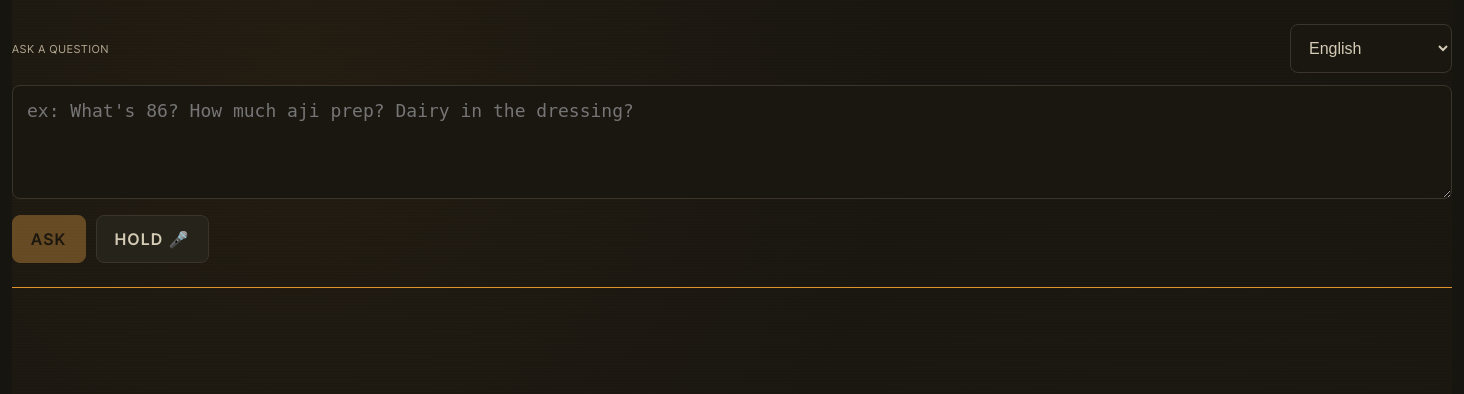
Test: clears the mic warning once the cook switches back to typing
Step 1. Press the mouse on the button with aria-label "start voice input" → (152, 239), box [96, 215, 209, 263]
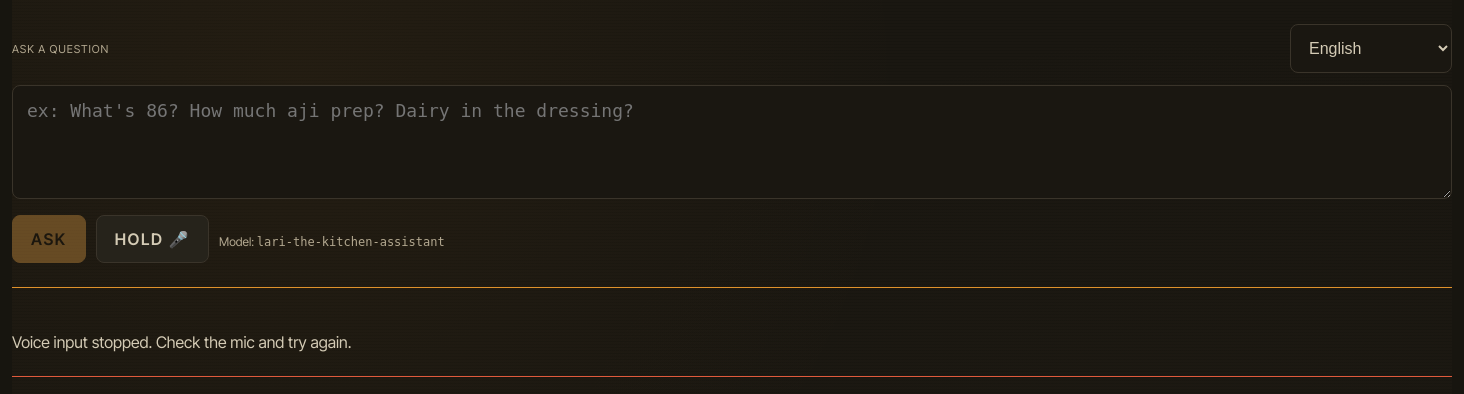
Expected: the message reads "Voice input stopped. Check the mic and try again.", [12, 332, 351, 352]
Step 2. Type "Need a typed follow-up" into the text box labelled "Ask a question" → (732, 142), box [12, 85, 1452, 199]
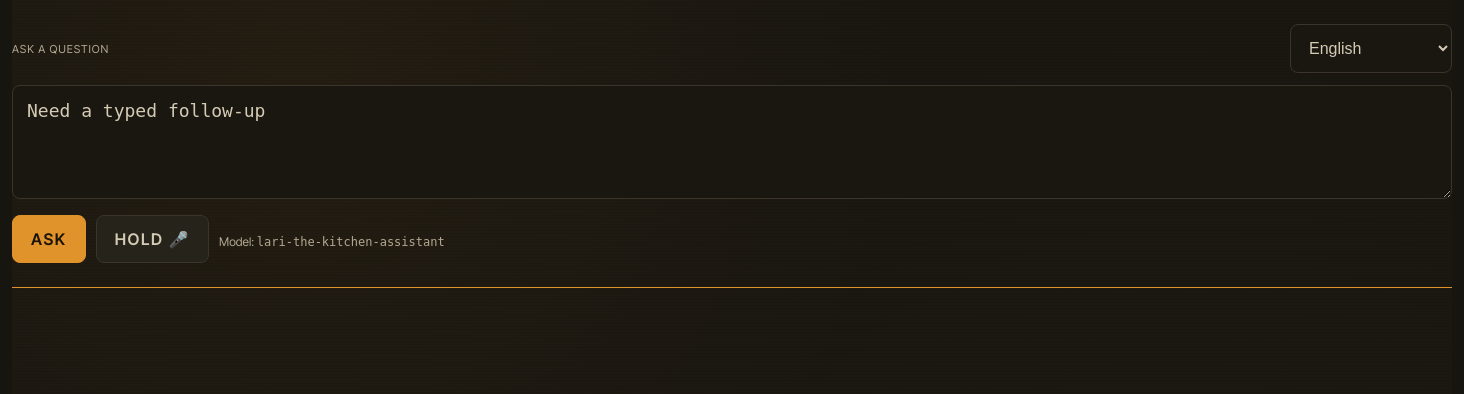
Expected: the message "Voice input stopped. Check the mic and try again." is gone
